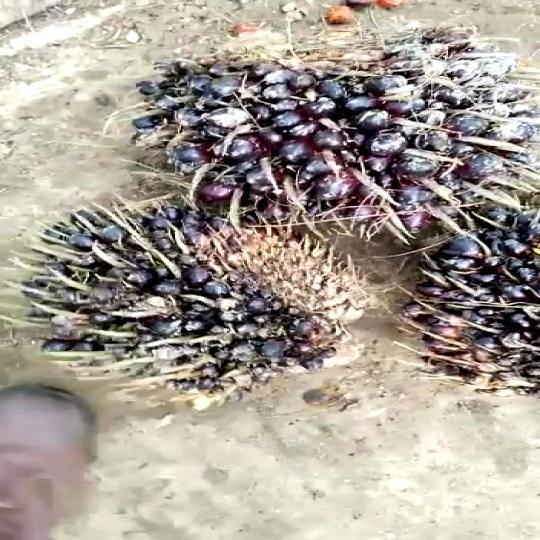mentah: (117, 27, 540, 247), (32, 210, 391, 404), (389, 201, 540, 415)
